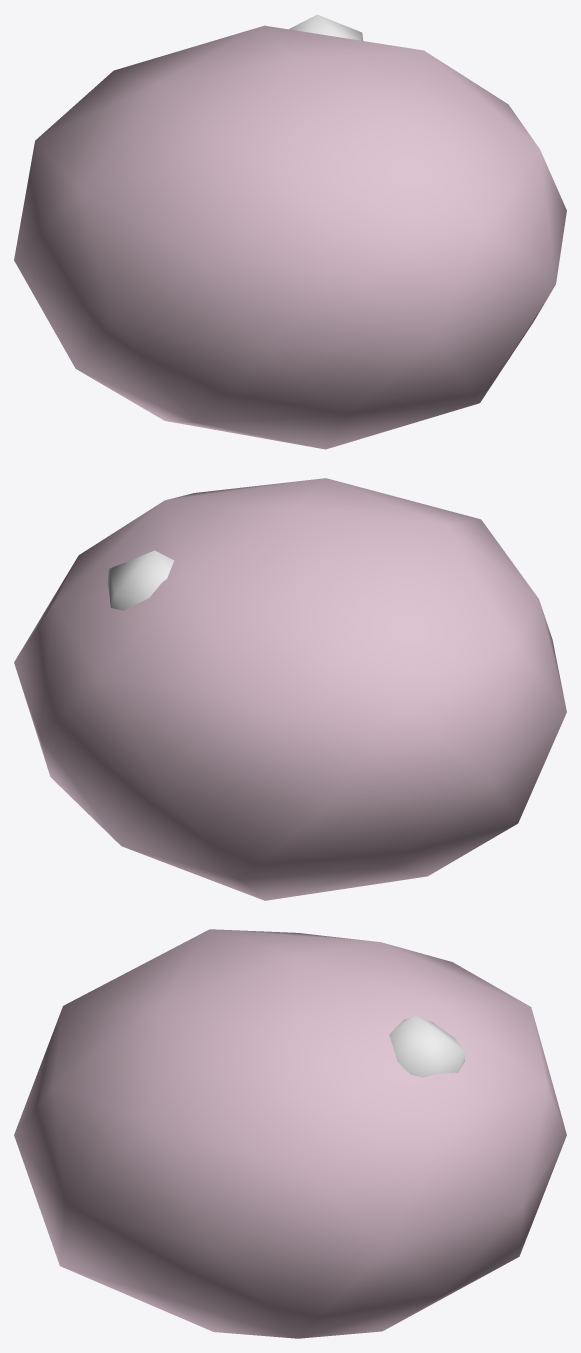
Rendered from butterfly_dust.glb.
3 views of the same model, one above another, from view 1: azimuth 30°, elevation 25°; view 2: azimuth 150°, elevation 25°; view 3: azimuth 270°, elevation 25° (orthographic).
Parts seen in each view (by area): view 1: butterfly_dust_v0; view 2: butterfly_dust_v0; view 3: butterfly_dust_v0.
Part boxes in pixels (x1=…): butterfly_dust_v0: x1=14, y1=14, x2=566, y2=449; butterfly_dust_v0: x1=14, y1=478, x2=566, y2=900; butterfly_dust_v0: x1=14, y1=929, x2=566, y2=1338.
Size of the model in its own units: 0.2331 by 0.168 by 0.2361.
